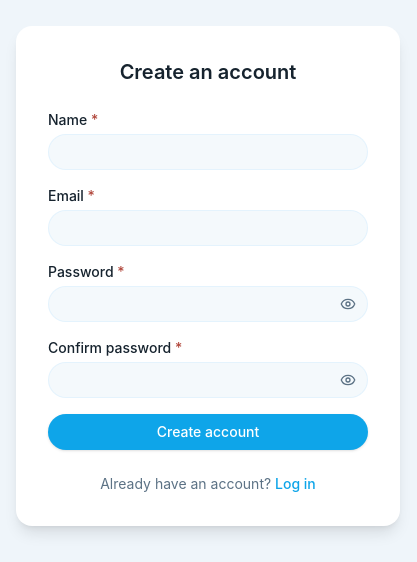
Test: Register › shows an error when the password is too short
The width and height of the screenshot is (417, 562).
In the field labelled "Name *": (208, 152) [48,134,368,170], type "Rahul"
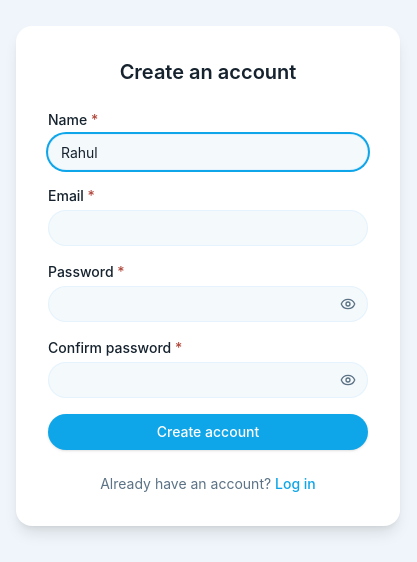
In the field labelled "Email *": (208, 228) [48,210,368,246], type "user@example.com"
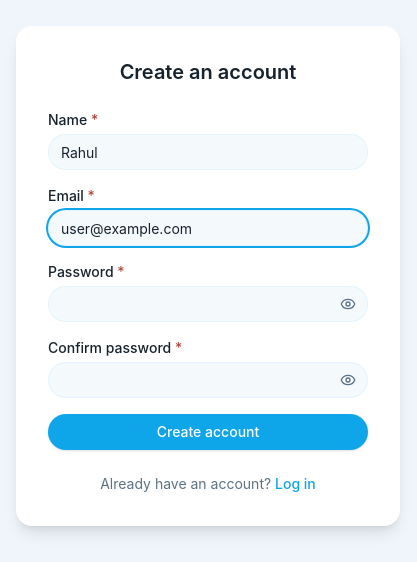
In the password field labelled "Password *": (208, 304) [48,286,368,322], type "short"
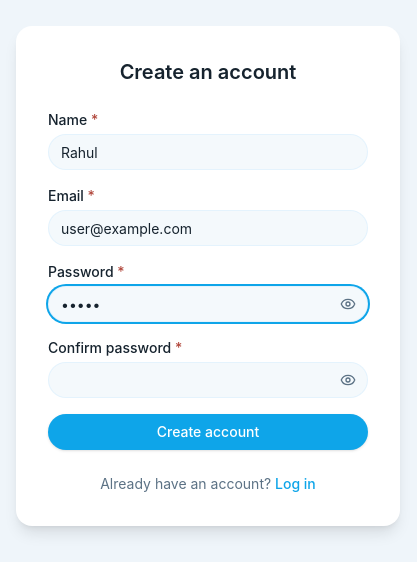
In the password field labelled "Confirm password *": (208, 380) [48,362,368,398], type "short"
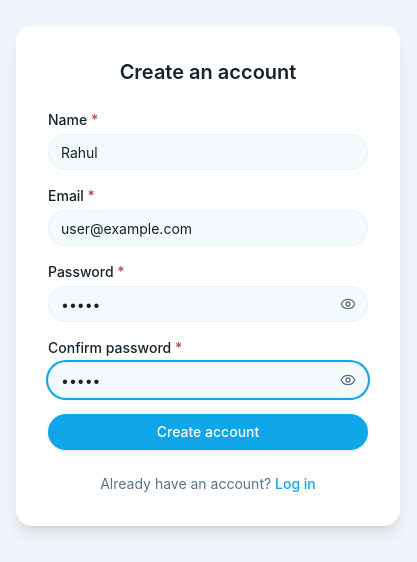
Click the button "Create account": (208, 432) [48,414,368,450]
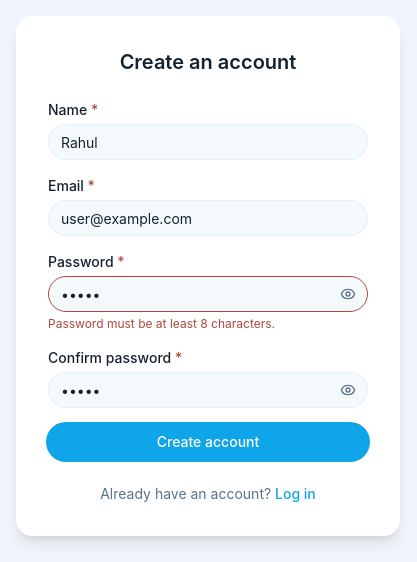
Expected: the text "Password must be at least 8 characters." is shown, [48,316,275,331]
